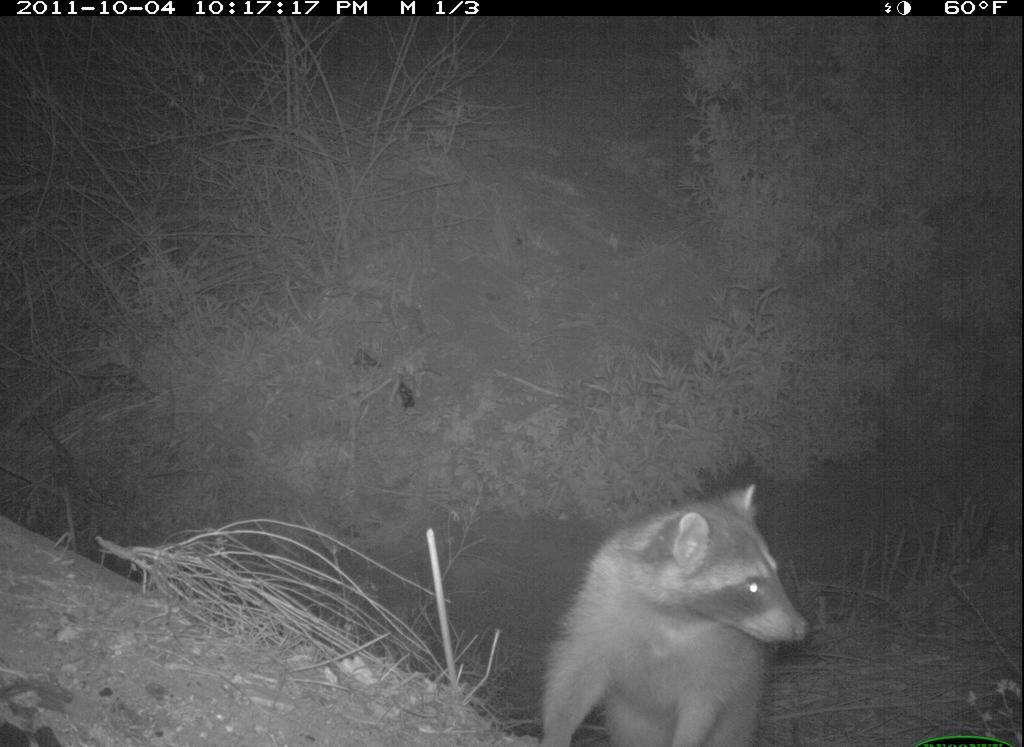raccoon: (514, 467, 825, 747)
